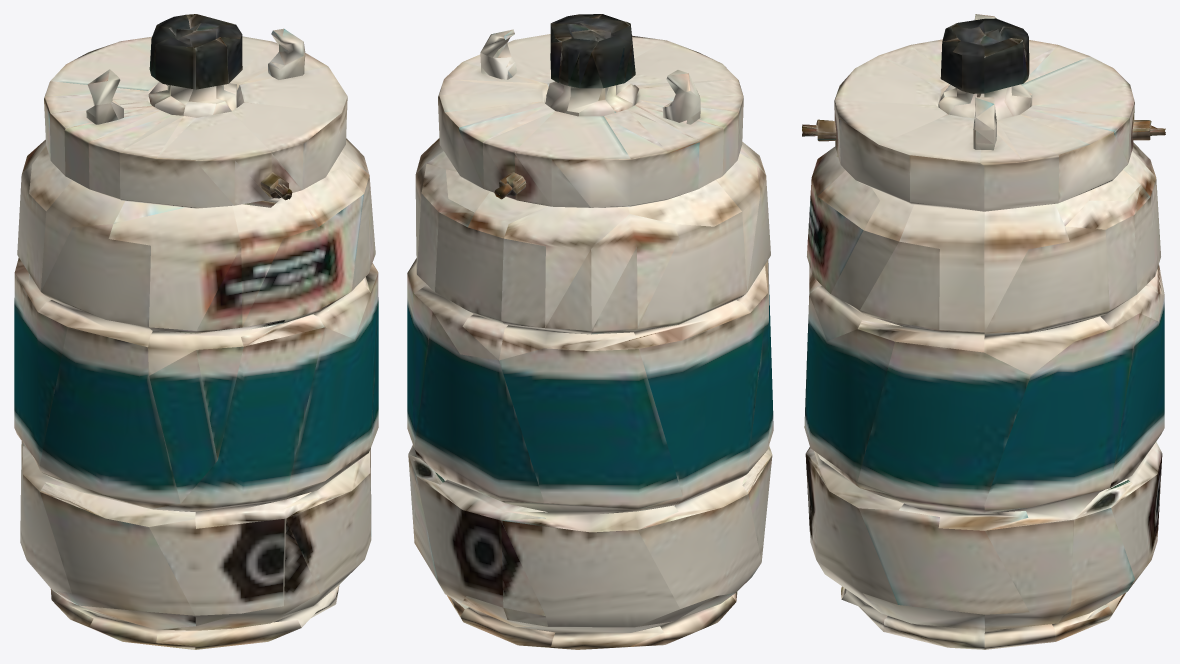
File: canister.lod1.glb
3 views of the same model, side by side, from view 1: azimuth 30°, elevation 25°; view 2: azimuth 150°, elevation 25°; view 3: azimuth 270°, elevation 25° (orthographic).
Bounding box in the file's own units: 0.5957 × 1 × 0.5957.
Materials: 1 (1 with a texture image).
